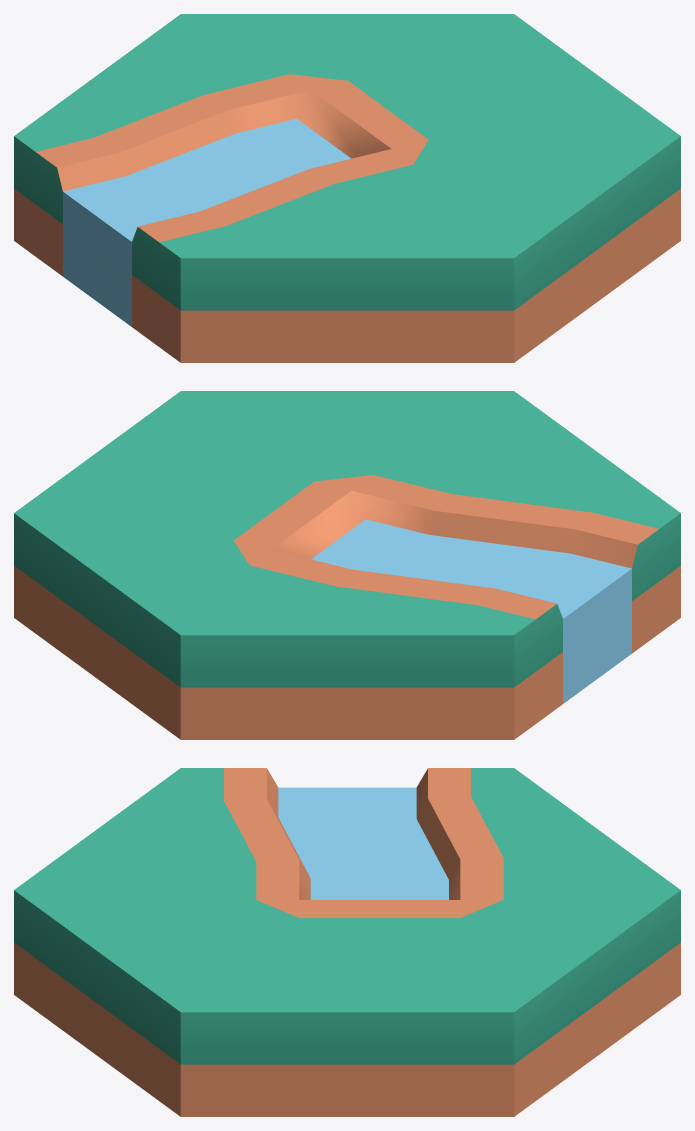
The model's file is kenney-hexagon-river-end.glb.
3 renders of one model, top to bottom at view 1: azimuth 30°, elevation 25°; view 2: azimuth 150°, elevation 25°; view 3: azimuth 270°, elevation 25°, orthographic.
Parts seen in each view (by area): view 1: river_end; view 2: river_end; view 3: river_end.
Boxes of the visible parts, left/top/right/bottom form: river_end: left=14, top=14, right=680, bottom=362; river_end: left=14, top=391, right=680, bottom=739; river_end: left=14, top=768, right=680, bottom=1116.
Size of the model in its own units: 1 by 0.2 by 1.15.
1 material, 1 textured.
